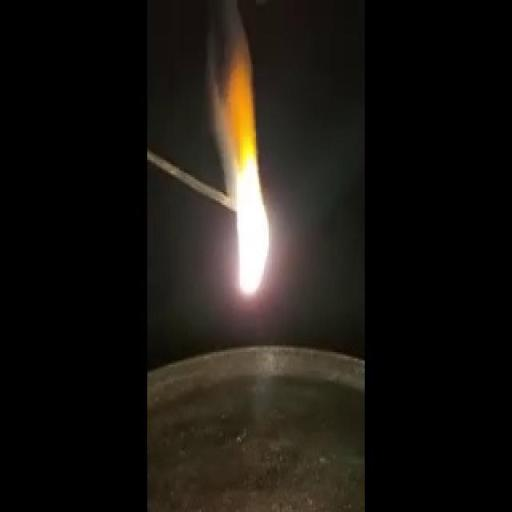smoke: (213, 65, 278, 304)
